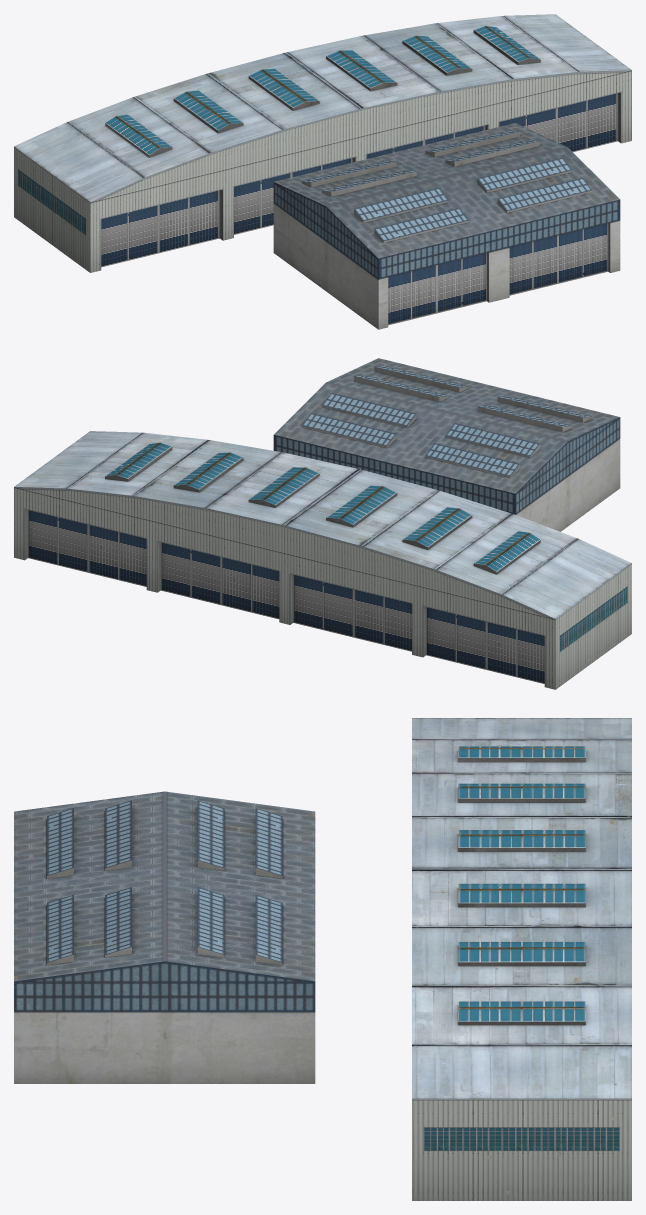
File: Airprots Buildings.fbx
The picture shows the model from 3 angles, top to bottom: view 1: azimuth 30°, elevation 25°; view 2: azimuth 150°, elevation 25°; view 3: azimuth 270°, elevation 25°; orthographic projection. The views are drawn at different scales.
Parts seen in each view (by area): view 1: buildings1, buildings; view 2: buildings1, buildings; view 3: buildings1, buildings.
Part boxes in pixels (<box>): buildings1: <box>14,14,631,272</box>; buildings: <box>273,123,620,329</box>; buildings1: <box>14,431,631,689</box>; buildings: <box>273,358,620,531</box>; buildings1: <box>412,718,631,1200</box>; buildings: <box>14,791,315,1083</box>.
Size of the model in its own units: 6025 by 1094 by 4134.
